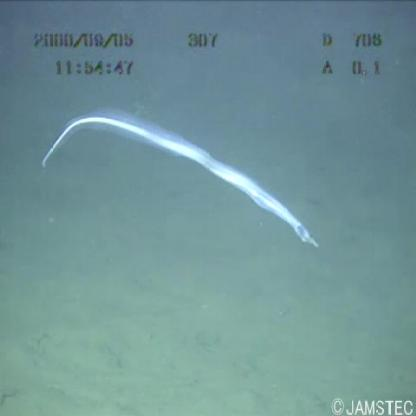Bio: (36, 107, 326, 256)
